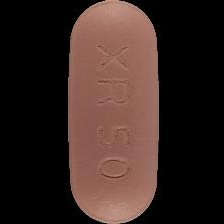54868-6317: (0, 0, 224, 224)
